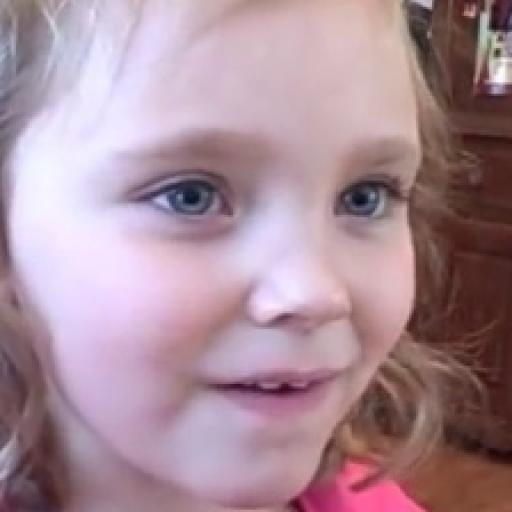Autism: (0, 0, 439, 510)
